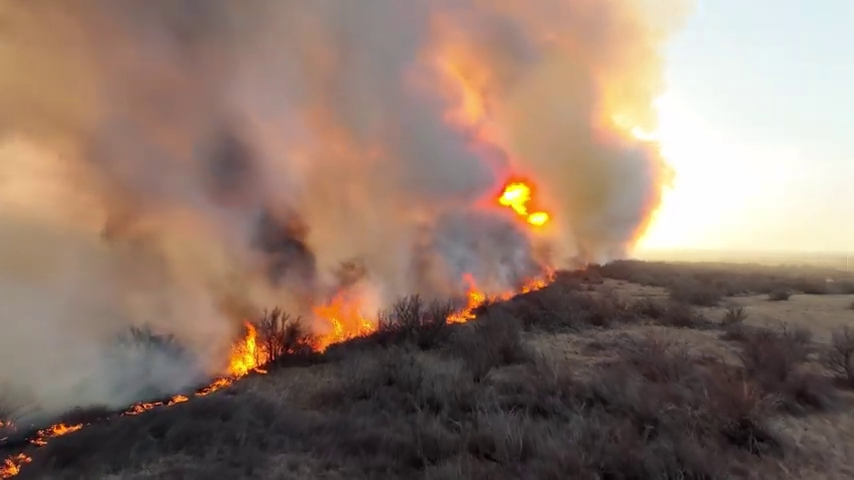forest_fire: (192, 322, 273, 397), (309, 294, 378, 351), (447, 276, 517, 322), (30, 423, 85, 446), (124, 395, 190, 412), (0, 453, 30, 477), (521, 274, 550, 292)
